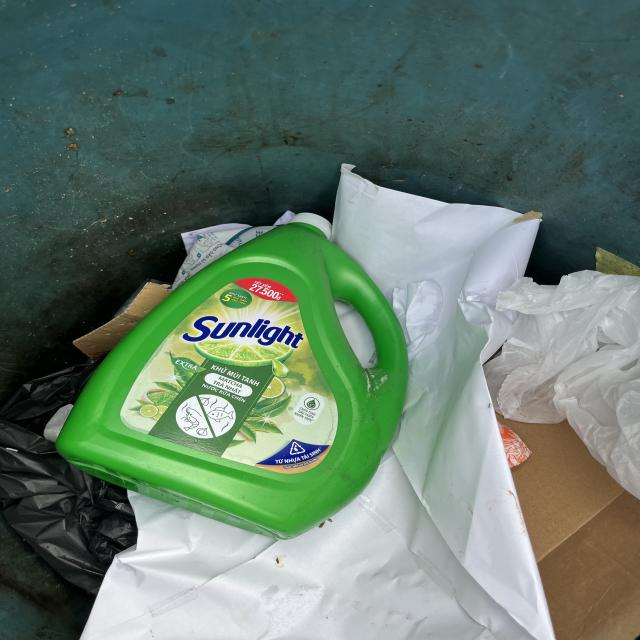bag: (482, 268, 640, 500)
bottle: (54, 212, 413, 541)
paper: (78, 162, 556, 640)
